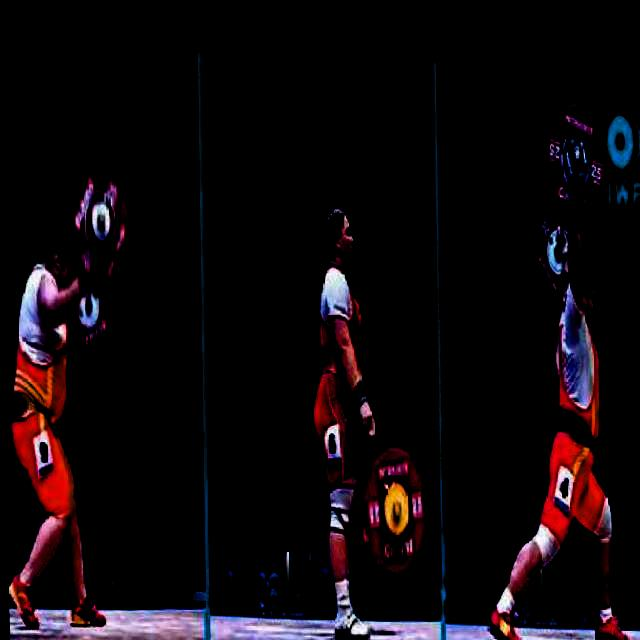barbell: (352, 432, 430, 577), (540, 88, 612, 232), (65, 156, 135, 292)
